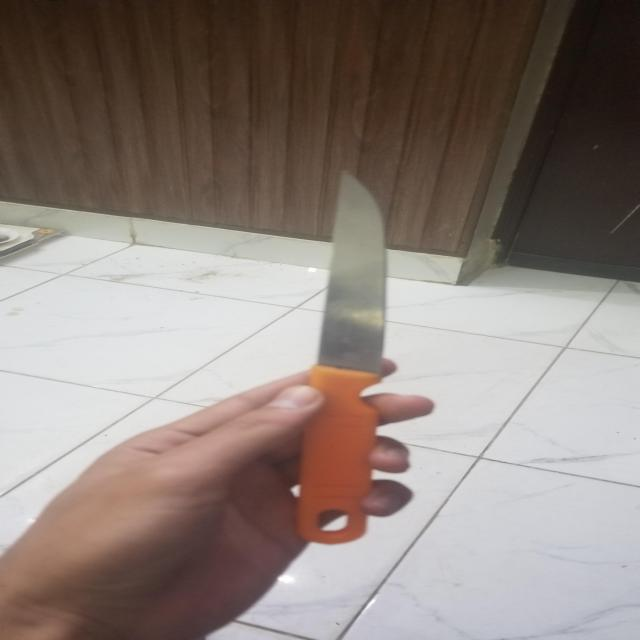Knife: (298, 168, 389, 544)
Person: (0, 360, 440, 640)
